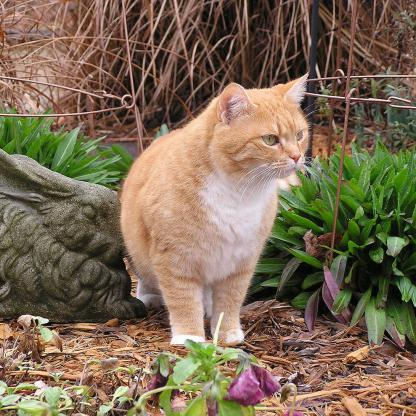cat: (114, 58, 322, 338)
